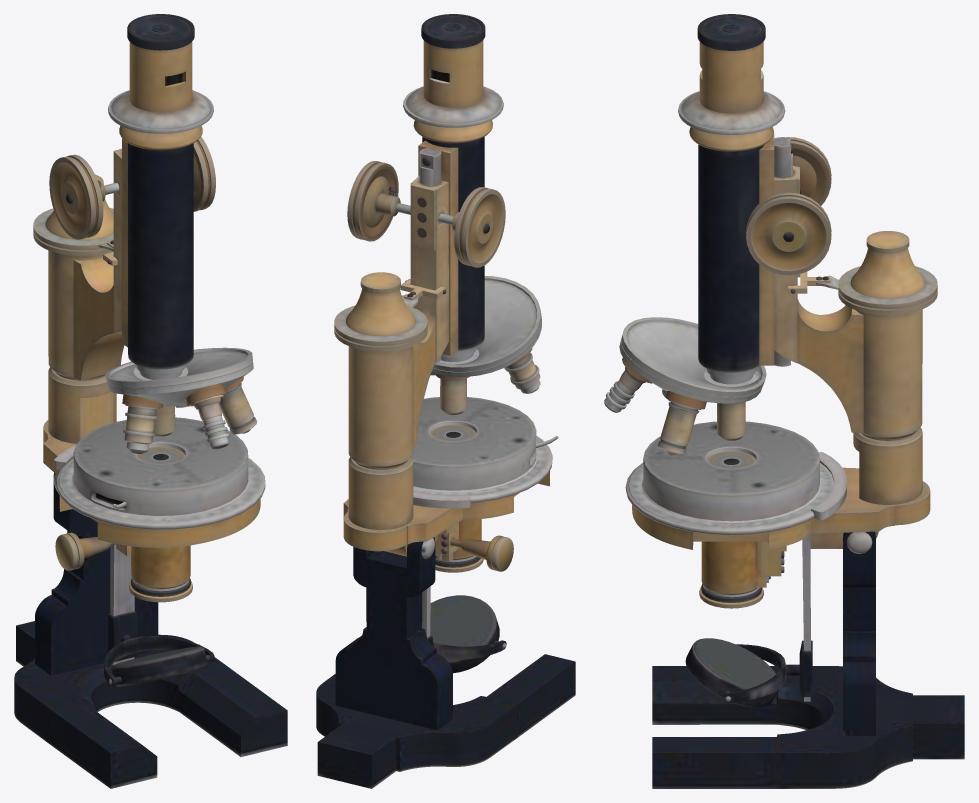
File: vintage_microscope.gltf
3 renders of one model, left to right at view 1: azimuth 30°, elevation 25°; view 2: azimuth 150°, elevation 25°; view 3: azimuth 270°, elevation 25°, orthographic. The views are drawn at different scales.
Visible parts, largest first — view 1: vintage_microscope_rack_mount_support, vintage_microscope_eye_piece, vintage_microscope_base, vintage_microscope_revolver, vintage_microscope_adjustment, vintage_microscope_mirror_arm, vintage_microscope_condenser, vintage_microscope_mirror_base; view 2: vintage_microscope_rack_mount_support, vintage_microscope_base, vintage_microscope_eye_piece, vintage_microscope_adjustment, vintage_microscope_mirror_base, vintage_microscope_revolver, vintage_microscope_condenser, vintage_microscope_mirror_arm; view 3: vintage_microscope_rack_mount_support, vintage_microscope_base, vintage_microscope_eye_piece, vintage_microscope_adjustment, vintage_microscope_revolver, vintage_microscope_condenser, vintage_microscope_mirror_base, vintage_microscope_mirror_arm.
Part boxes in pixels (box(x1,y1,x2,y2)): vintage_microscope_rack_mount_support: box(33, 149, 265, 570); vintage_microscope_eye_piece: box(105, 14, 252, 388); vintage_microscope_base: box(14, 473, 287, 788); vintage_microscope_revolver: box(107, 362, 256, 453); vintage_microscope_adjustment: box(49, 136, 215, 239); vintage_microscope_mirror_arm: box(104, 544, 214, 685); vintage_microscope_condenser: box(129, 446, 192, 602); vintage_microscope_mirror_base: box(111, 646, 207, 686); vintage_microscope_rack_mount_support: box(334, 176, 558, 571); vintage_microscope_base: box(316, 537, 575, 788); vintage_microscope_eye_piece: box(403, 14, 541, 371); vintage_microscope_adjustment: box(347, 161, 505, 267); vintage_microscope_mirror_base: box(430, 595, 499, 673); vintage_microscope_revolver: box(430, 316, 541, 414); vintage_microscope_condenser: box(430, 425, 483, 572); vintage_microscope_mirror_arm: box(422, 586, 506, 659); vintage_microscope_rack_mount_support: box(625, 166, 937, 576); vintage_microscope_base: box(652, 531, 964, 788); vintage_microscope_eye_piece: box(621, 14, 793, 397); vintage_microscope_adjustment: box(746, 137, 831, 275); vintage_microscope_revolver: box(604, 337, 762, 455); vintage_microscope_condenser: box(699, 451, 770, 608); vintage_microscope_mirror_base: box(685, 638, 778, 707); vintage_microscope_mirror_arm: box(723, 534, 812, 702).
Size of the model in its own units: 0.1068 by 0.3996 by 0.1819.
